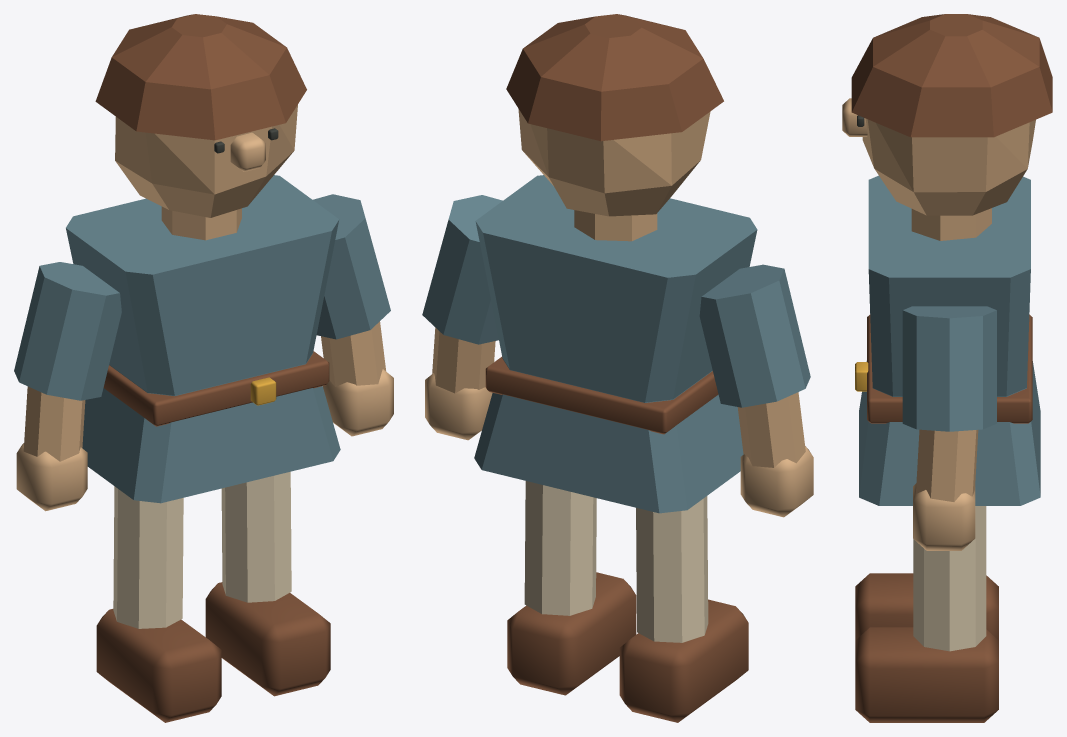
The model's file is citizen.glb.
3 renders of one model, left to right at view 1: azimuth 30°, elevation 25°; view 2: azimuth 150°, elevation 25°; view 3: azimuth 270°, elevation 25°, orthographic. The views are drawn at different scales.
Visible parts, largest first — view 1: Body, LegL, ArmL, LegR, ArmR; view 2: Body, ArmL, LegL, LegR, ArmR; view 3: Body, LegR, ArmR, LegL.
Part boxes in pixels (<box>): Body: <box>66,14,340,503</box>; LegL: <box>96,486,221,722</box>; ArmL: <box>14,262,121,511</box>; LegR: <box>205,471,330,696</box>; ArmR: <box>313,194,393,436</box>; Body: <box>474,14,757,513</box>; ArmL: <box>699,264,813,517</box>; LegL: <box>619,496,748,722</box>; LegR: <box>507,481,636,695</box>; ArmR: <box>422,195,502,440</box>; Body: <box>842,14,1052,505</box>; LegR: <box>855,506,998,722</box>; ArmR: <box>902,306,996,550</box>; LegL: <box>855,573,998,640</box>.
Size of the model in its own units: 0.532 by 0.897 by 0.2593.
